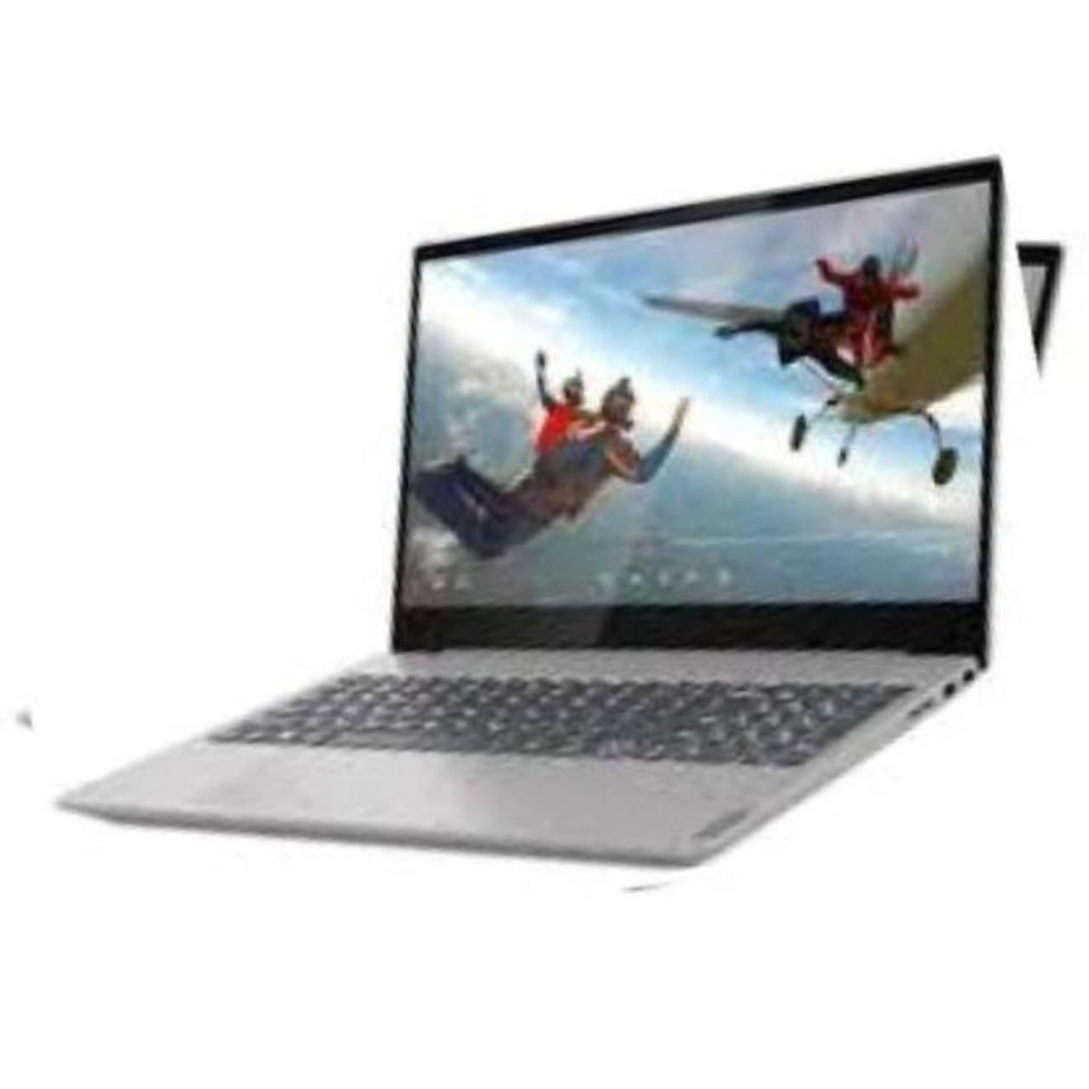laptop: (0, 154, 1086, 942)
